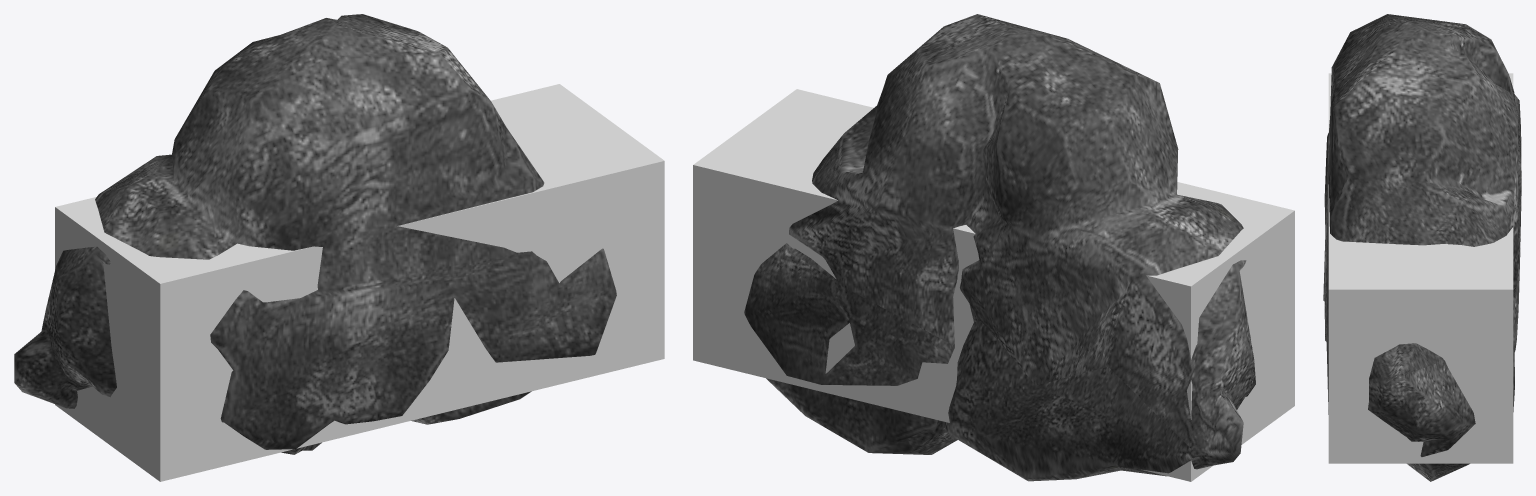
The model's file is rock2.glb.
3 views of the same model, side by side, from view 1: azimuth 30°, elevation 25°; view 2: azimuth 150°, elevation 25°; view 3: azimuth 270°, elevation 25° (orthographic). The views are drawn at different scales.
Visible parts, largest first — view 1: Plane_block_rock_low, body; view 2: Plane_block_rock_low, body; view 3: Plane_block_rock_low, body.
Part boxes in pixels (x1,y1,x2,y2): Plane_block_rock_low: (14,14,616,454); body: (55,84,664,481); Plane_block_rock_low: (744,14,1255,481); body: (693,89,1294,481); Plane_block_rock_low: (1323,14,1521,481); body: (1328,73,1513,463).
Bounding box in the file's own units: 6.76 × 4.84 × 2.27.
1 material, 1 textured.
